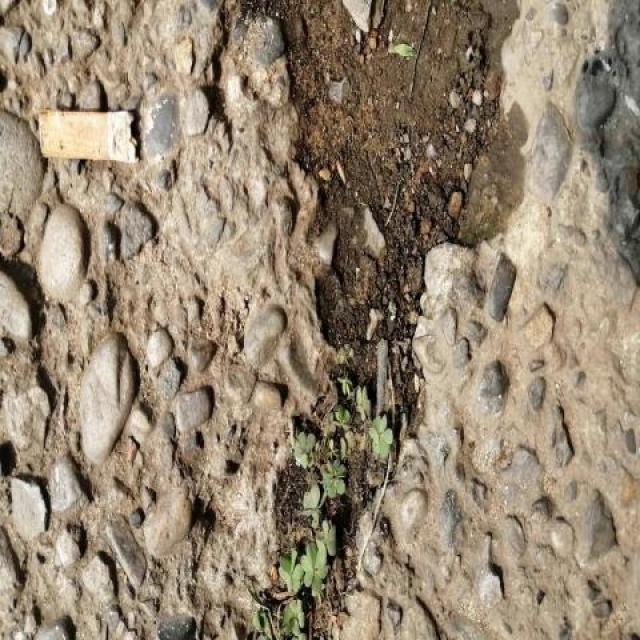non-organic waste: (33, 100, 144, 171)
